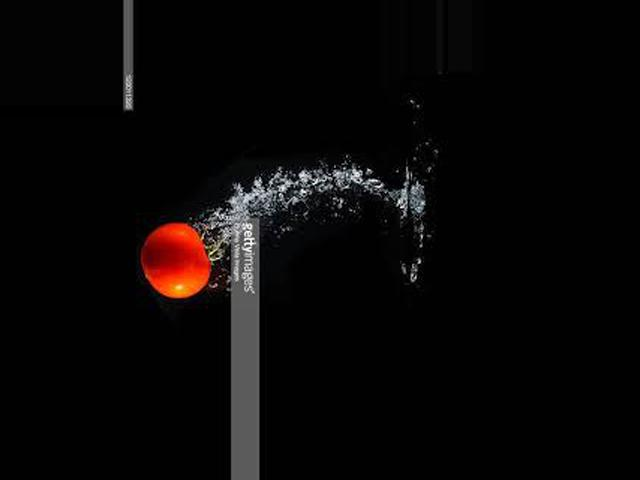tomato: (142, 222, 210, 298)
